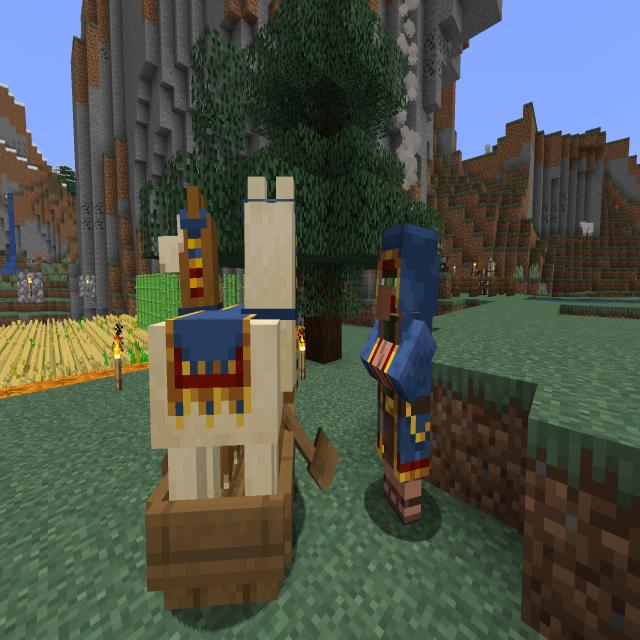Trader Lama: (147, 174, 298, 493), (153, 182, 302, 493)
